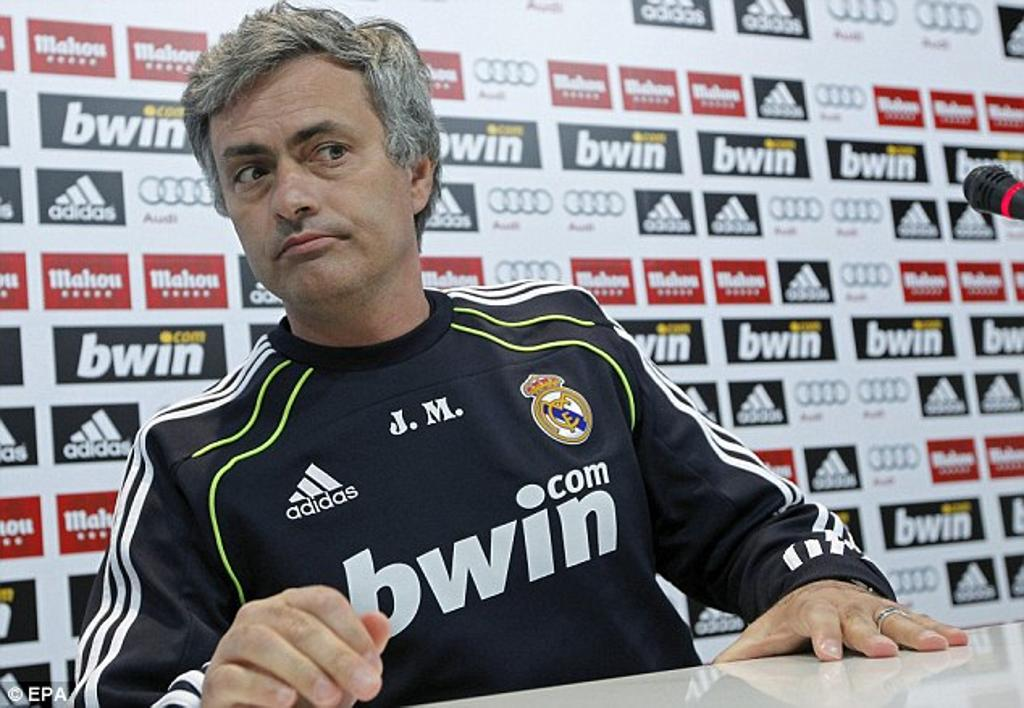face: (214, 62, 410, 298)
